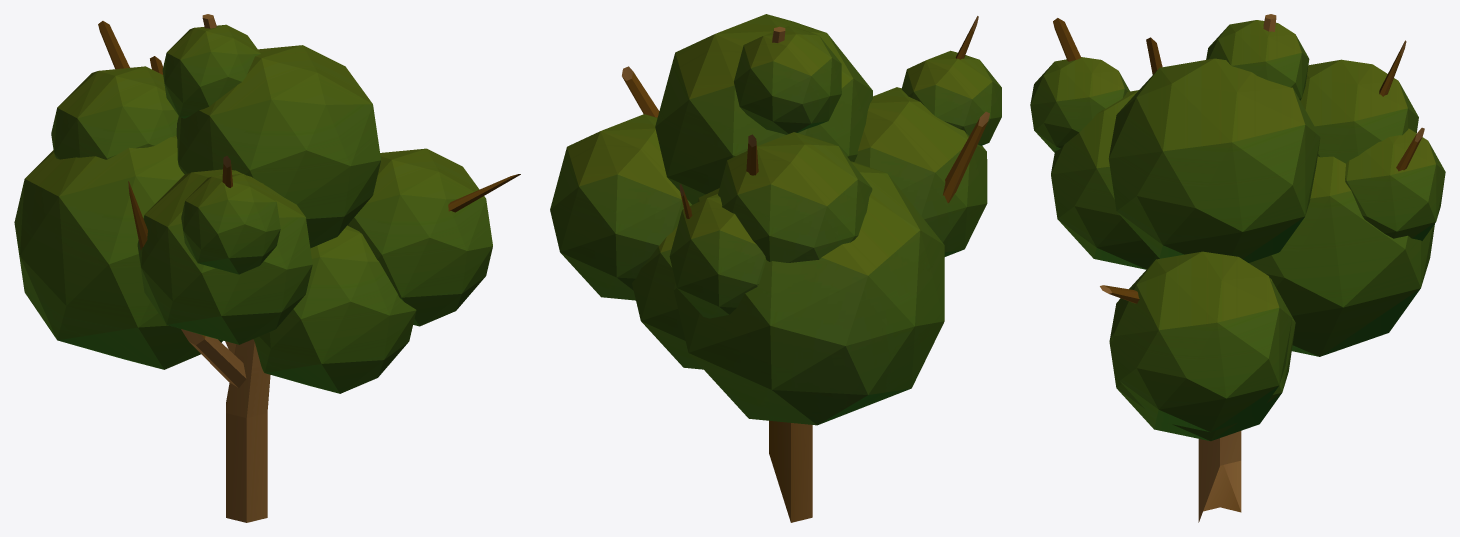
The model's file is bush01.fbx.
3 renders of one model, left to right at view 1: azimuth 30°, elevation 25°; view 2: azimuth 150°, elevation 25°; view 3: azimuth 270°, elevation 25°, orthographic. The views are drawn at different scales.
Visible parts, largest first — view 1: Leaves_v3_1, Leaves_v3_6, Leaves_v3_8, Leaves_v3_4, Leaves_v3, Leaves_v3_2, Leaves_v3_5, Base, Leaves_v3_7, branch_low01_1, branch_low01_4, branch_low01; view 2: Leaves_v3_1, Leaves_v3_8, Leaves_v3_6, Leaves_v3_2, Leaves_v3_4, Leaves_v3_7, Leaves_v3_3, Leaves_v3_5, Leaves_v3, Base, branch_low01_1, branch_low01; view 3: Leaves_v3_6, Leaves_v3_8, Leaves_v3_1, Leaves_v3_4, Leaves_v3_2, Leaves_v3_3, Leaves_v3_5, Leaves_v3_7, Base, Leaves_v3, branch_low01_3.
Boxes of the visible parts, left/top/right/bottom form: Leaves_v3_1: left=14, top=135, right=222, bottom=369; Leaves_v3_6: left=176, top=45, right=380, bottom=248; Leaves_v3_8: left=347, top=148, right=492, bottom=326; Leaves_v3_4: left=137, top=169, right=312, bottom=344; Leaves_v3: left=253, top=225, right=416, bottom=393; Leaves_v3_2: left=51, top=66, right=178, bottom=159; Leaves_v3_5: left=181, top=173, right=280, bottom=274; Base: left=202, top=14, right=270, bottom=522; Leaves_v3_7: left=162, top=24, right=260, bottom=118; branch_low01_1: left=128, top=181, right=246, bottom=387; branch_low01_4: left=98, top=21, right=129, bottom=69; branch_low01: left=448, top=174, right=520, bottom=212; Leaves_v3_1: left=673, top=161, right=944, bottom=425; Leaves_v3_8: left=550, top=114, right=691, bottom=300; Leaves_v3_6: left=655, top=14, right=872, bottom=204; Leaves_v3_2: left=718, top=132, right=872, bottom=262; Leaves_v3_4: left=854, top=87, right=987, bottom=256; Leaves_v3_7: left=734, top=26, right=841, bottom=134; Leaves_v3_3: left=669, top=194, right=766, bottom=318; Leaves_v3_5: left=901, top=50, right=1001, bottom=145; Leaves_v3: left=632, top=226, right=703, bottom=369; Base: left=769, top=26, right=812, bottom=522; branch_low01_1: left=943, top=111, right=989, bottom=202; branch_low01: left=622, top=66, right=659, bottom=117; Leaves_v3_6: left=1108, top=58, right=1320, bottom=262; Leaves_v3_8: left=1113, top=251, right=1292, bottom=432; Leaves_v3_1: left=1249, top=156, right=1434, bottom=356; Leaves_v3_4: left=1051, top=90, right=1159, bottom=269; Leaves_v3_2: left=1300, top=59, right=1418, bottom=163; Leaves_v3_3: left=1345, top=128, right=1445, bottom=240; Leaves_v3_5: left=1030, top=57, right=1129, bottom=152; Leaves_v3_7: left=1206, top=20, right=1309, bottom=100; Base: left=1198, top=14, right=1276, bottom=522; Leaves_v3: left=1109, top=278, right=1295, bottom=441; branch_low01_3: left=1053, top=18, right=1081, bottom=61.
Bounding box in the file's own units: 1700 × 1962 × 1495.
